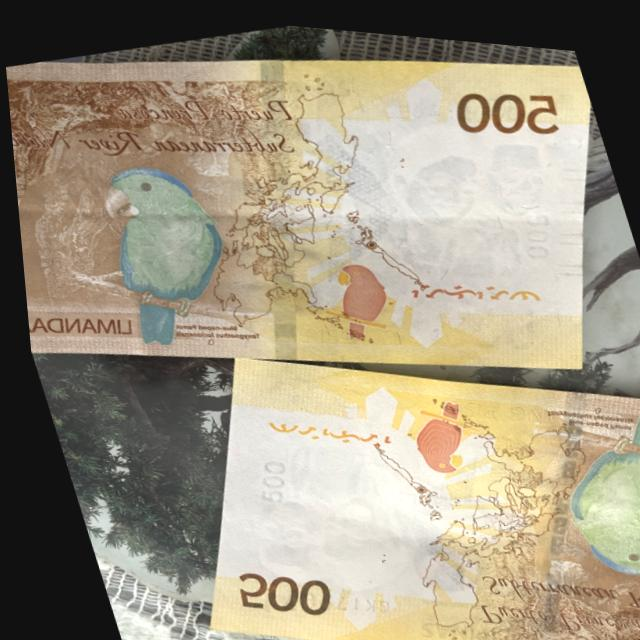500_big_parrot: (58, 155, 238, 357), (510, 368, 640, 585)
500_parrot_watermark: (306, 243, 405, 342), (390, 383, 487, 475)
value_watermark: (232, 445, 295, 507), (506, 193, 566, 255)
watermark: (206, 402, 458, 613), (340, 85, 577, 305)
